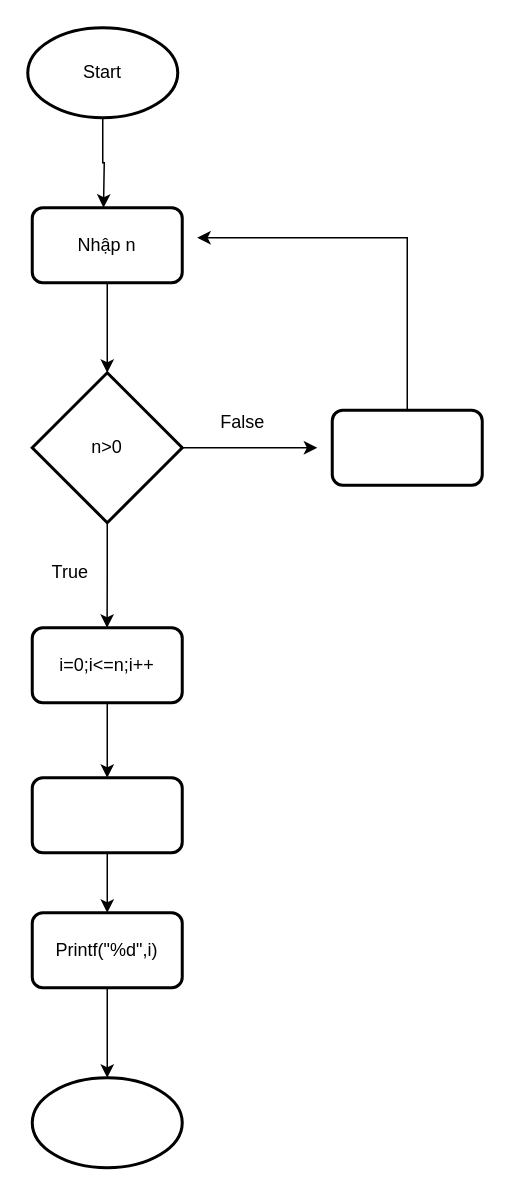
This 509x1194 diagram has some shape labels left out. Here are the shapes that lost their labels. From the top down, the box of each, then its label:
(330, 408, 483, 486): Vui lòng nhập lại
(30, 776, 183, 854): n%i
(30, 1076, 183, 1168): End
